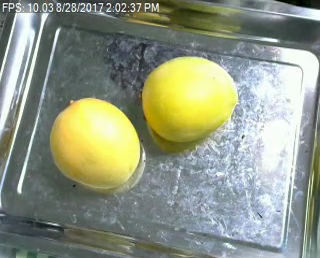Mango: (46, 93, 141, 189), (142, 54, 237, 143)
